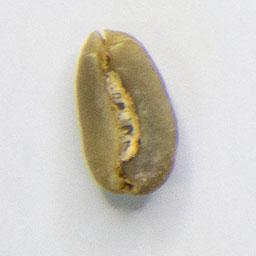longberry: (72, 24, 183, 198)
